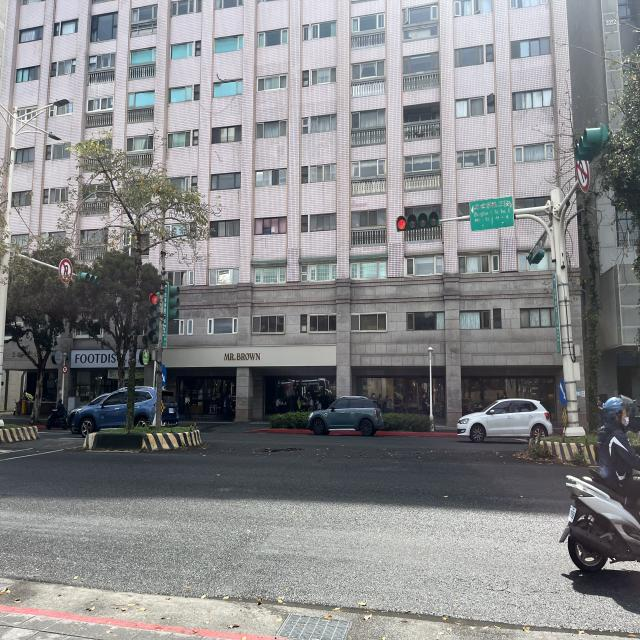red light: (397, 210, 439, 232), (148, 291, 158, 344)
